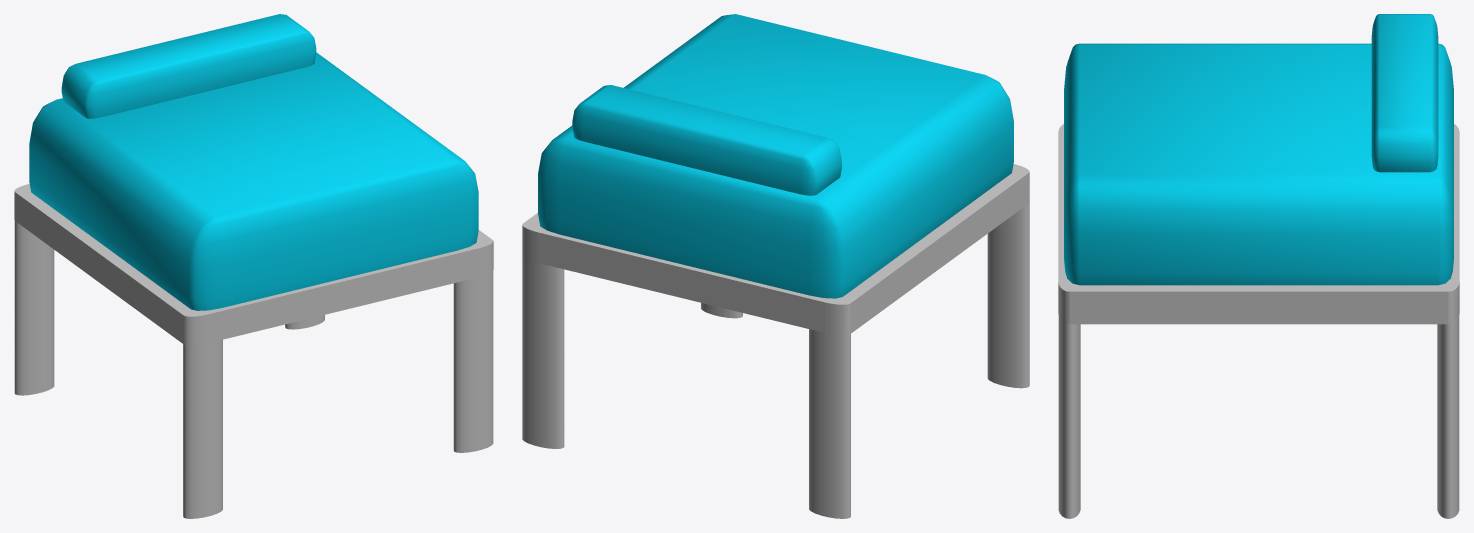
The model's file is sh-lp-letto-azzurro.glb.
3 views of the same model, side by side, from view 1: azimuth 30°, elevation 25°; view 2: azimuth 150°, elevation 25°; view 3: azimuth 270°, elevation 25° (orthographic). The views are drawn at different scales.
Visible parts, largest first — view 1: ChamferBox27_1, Rectangle02_2; view 2: ChamferBox27_1, Rectangle02_2; view 3: ChamferBox27_1, Rectangle02_2.
Boxes of the visible parts, bbox=[...] form: ChamferBox27_1: bbox=[29, 14, 478, 310]; Rectangle02_2: bbox=[14, 184, 493, 518]; ChamferBox27_1: bbox=[538, 14, 1013, 298]; Rectangle02_2: bbox=[522, 164, 1029, 518]; ChamferBox27_1: bbox=[1064, 14, 1453, 285]; Rectangle02_2: bbox=[1058, 124, 1459, 518].
Size of the model in its own units: 1 by 1 by 1.
